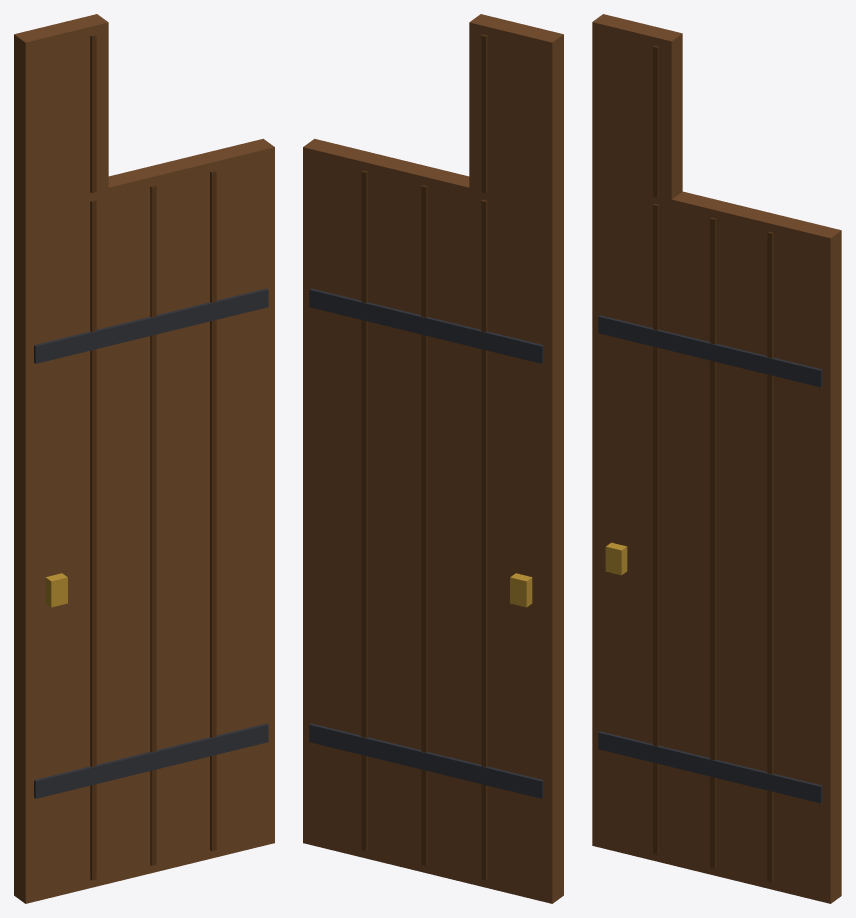
Rendered from ncb-door-right.glb.
The picture shows the model from 3 angles, left to right: view 1: azimuth 30°, elevation 25°; view 2: azimuth 150°, elevation 25°; view 3: azimuth 330°, elevation 25°; orthographic projection. The views are drawn at different scales.
Visible parts, largest first — view 1: part-leaf; view 2: part-leaf; view 3: part-leaf.
Part boxes in pixels (x1,y1,x2,y2): part-leaf: (14, 14, 274, 903); part-leaf: (303, 14, 563, 903); part-leaf: (592, 14, 841, 903).
Bounding box in the file's own units: 1.5 × 4.95 × 0.24.
